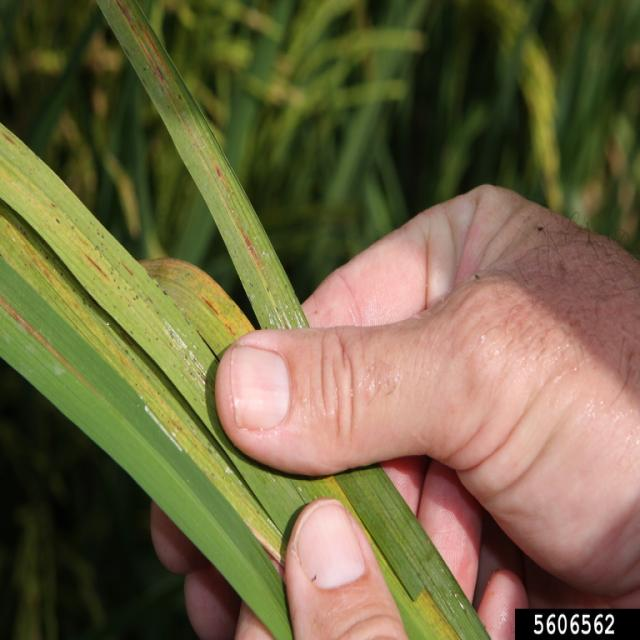Brown spot: (0, 121, 496, 640), (99, 0, 320, 333), (138, 257, 255, 357)
